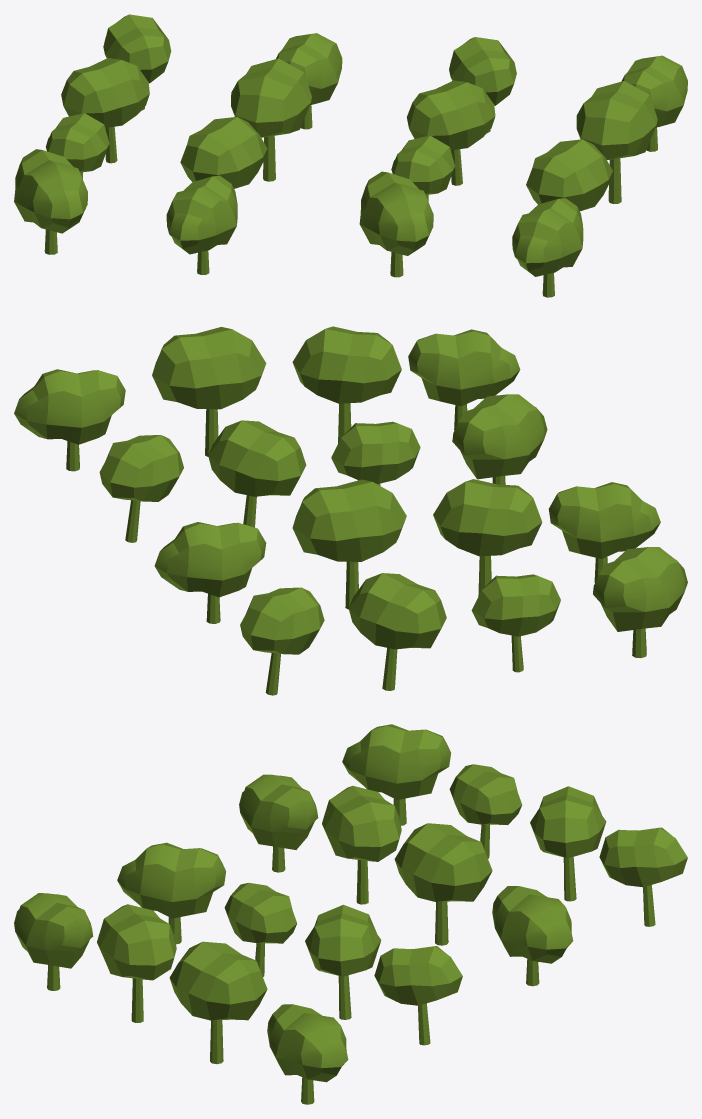
File: oliveTree_cluster_3.fbx
The picture shows the model from 3 angles, top to bottom: view 1: azimuth 30°, elevation 25°; view 2: azimuth 150°, elevation 25°; view 3: azimuth 270°, elevation 25°; orthographic projection. The views are drawn at different scales.
Visible parts, largest first — view 1: oliveTree_1 (×2), oliveTree_6 (×2), oliveTree_7 (×2), oliveTree_4 (×2), oliveTree_3 (×2), oliveTree_8 (×2), oliveTree_2 (×2), oliveTree_5 (×2); view 2: oliveTree_1 (×2), oliveTree_3 (×2), oliveTree_2 (×2), oliveTree_4 (×2), oliveTree_6 (×2), oliveTree_7 (×2), oliveTree_8 (×2), oliveTree_5 (×2); view 3: oliveTree_1 (×2), oliveTree_6 (×2), oliveTree_3 (×2), oliveTree_2 (×2), oliveTree_4 (×2), oliveTree_7 (×2), oliveTree_8 (×2), oliveTree_5 (×2).
Part boxes in pixels (x1,y1,x2,y2): oliveTree_1 (×2): (231,58,657,203); oliveTree_6 (×2): (14,149,433,277); oliveTree_7 (×2): (61,58,495,185); oliveTree_4 (×2): (166,175,583,297); oliveTree_3 (×2): (180,117,612,211); oliveTree_8 (×2): (103,14,516,132); oliveTree_2 (×2): (276,33,687,151); oliveTree_5 (×2): (46,113,454,201); oliveTree_1 (×2): (152,327,406,609); oliveTree_3 (×2): (292,326,542,596); oliveTree_2 (×2): (14,369,266,623); oliveTree_4 (×2): (408,329,660,582); oliveTree_6 (×2): (452,394,687,657); oliveTree_7 (×2): (208,420,446,690); oliveTree_8 (×2): (99,435,324,695); oliveTree_5 (×2): (331,421,560,672); oliveTree_1 (×2): (169,823,492,1064); oliveTree_6 (×2): (117,724,450,944); oliveTree_3 (×2): (97,786,401,1022); oliveTree_2 (×2): (267,886,573,1104); oliveTree_4 (×2): (14,774,318,990); oliveTree_7 (×2): (305,786,606,1019); oliveTree_8 (×2): (374,827,687,1045); oliveTree_5 (×2): (224,764,522,976).
Size of the model in its own units: 20.12 by 3.54 by 18.21.
